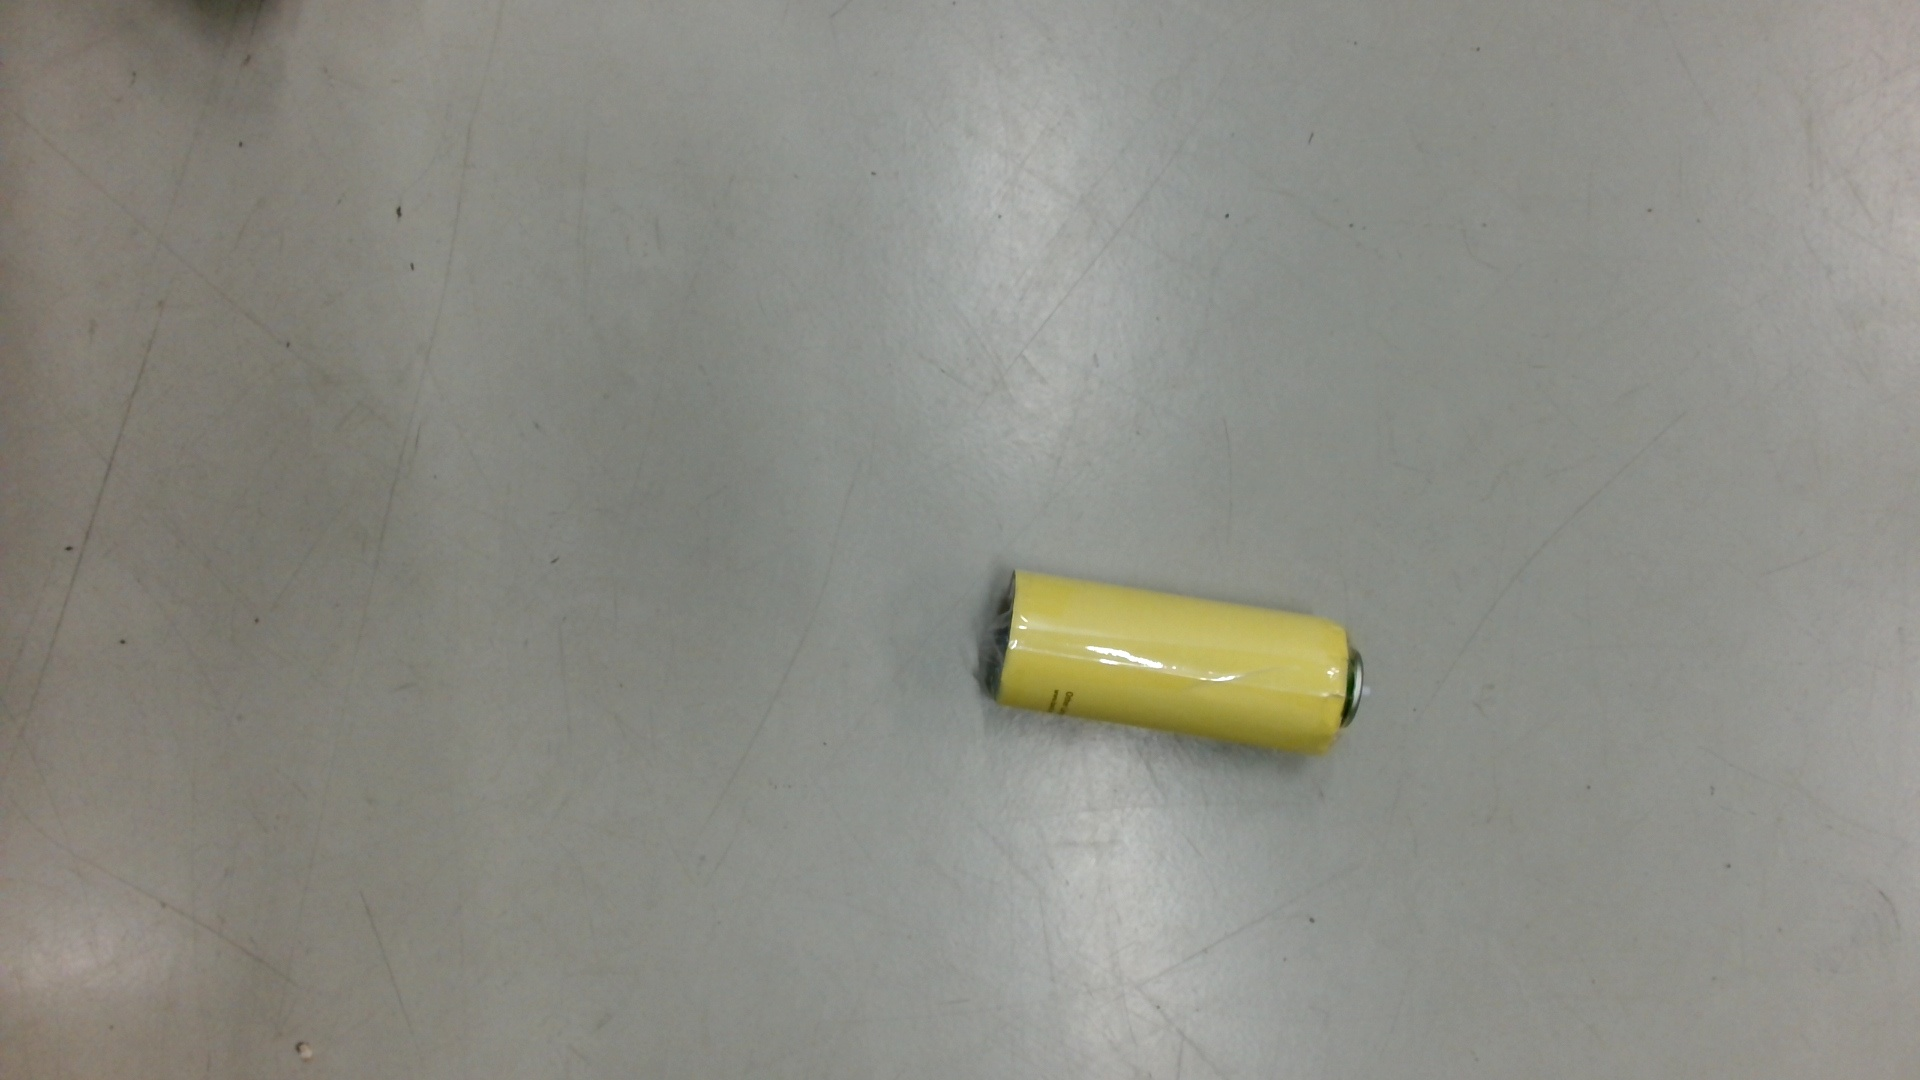Cylinder: (978, 560, 1382, 764)
